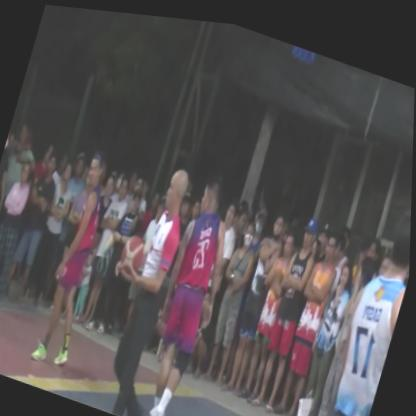basketball: (115, 223, 153, 283)
